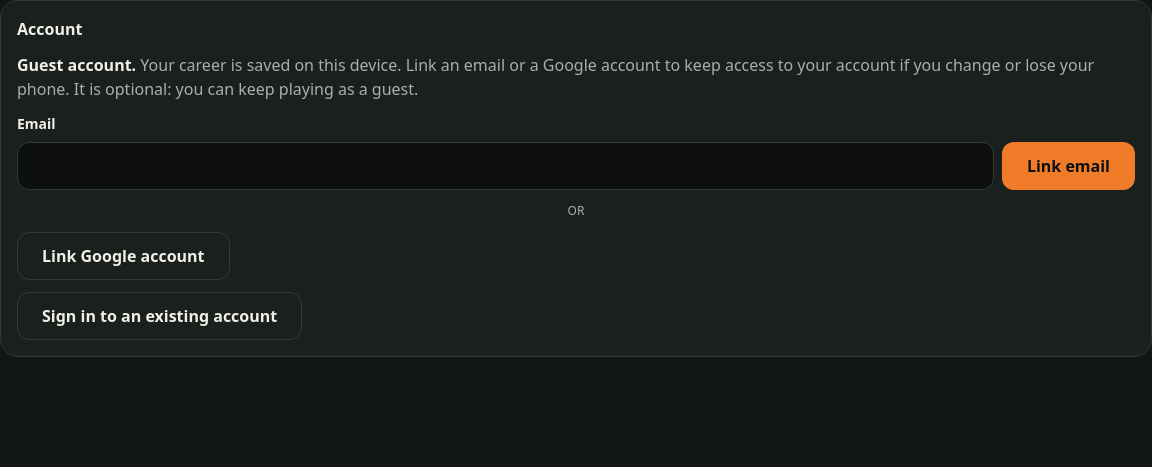
Account card › offers to sign in with Google when that Google account belongs to another account
Later steps or results of the test are not shown.
Click the button "Link Google account" at {"x": 123, "y": 256}, box [17,232,230,280]
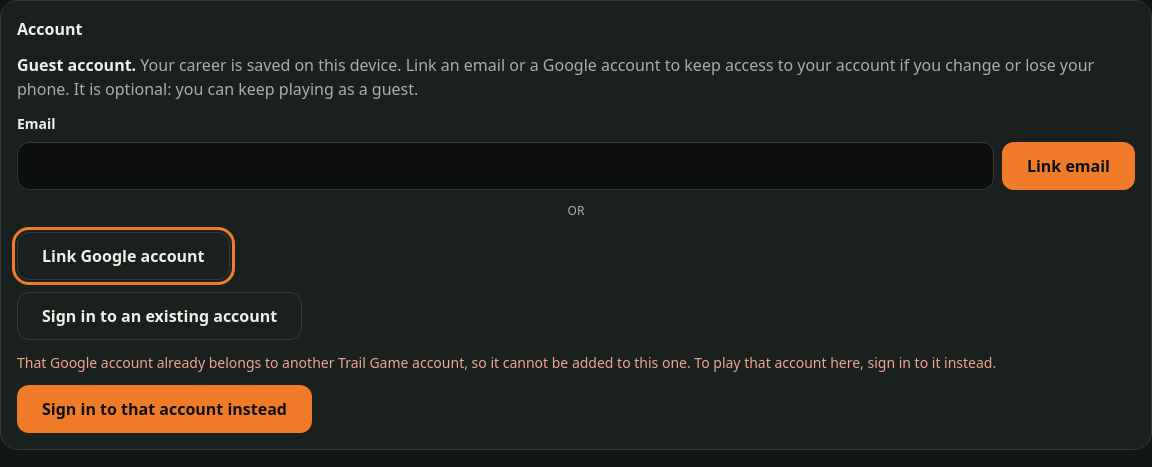
Result: the message shows "sign in to it instead" at [17,353,996,372]
